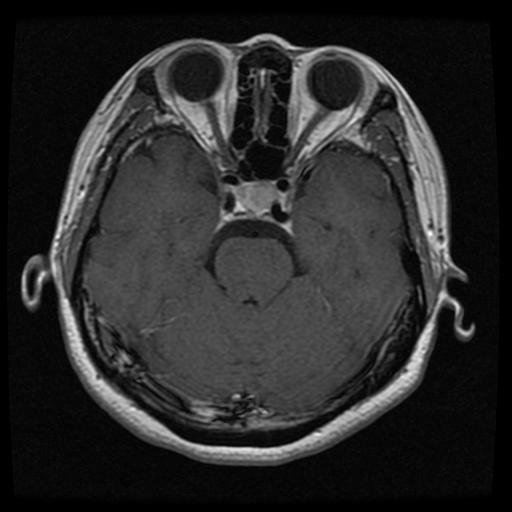Tumour-Pituitary: (214, 177, 296, 233)
